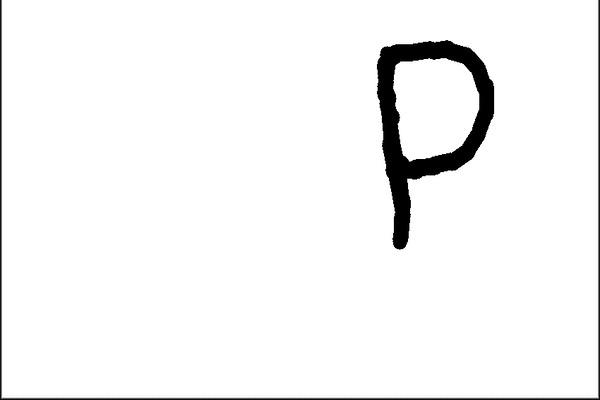P: (364, 35, 502, 257)
